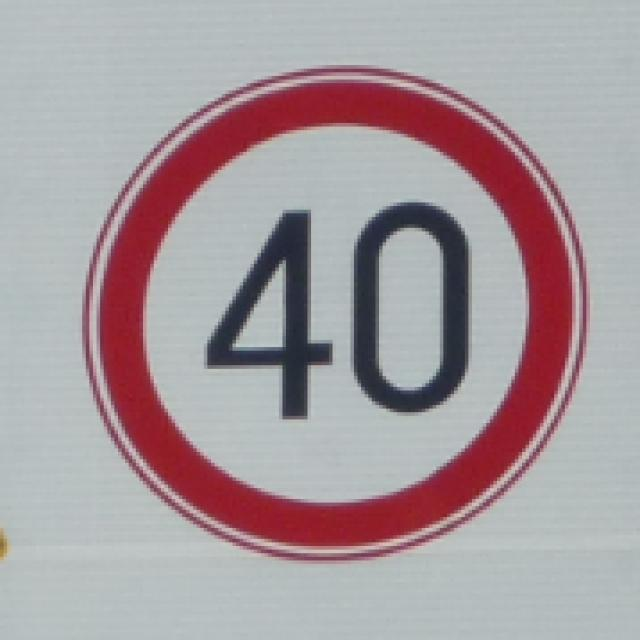speed limit 40: (82, 63, 589, 562)
